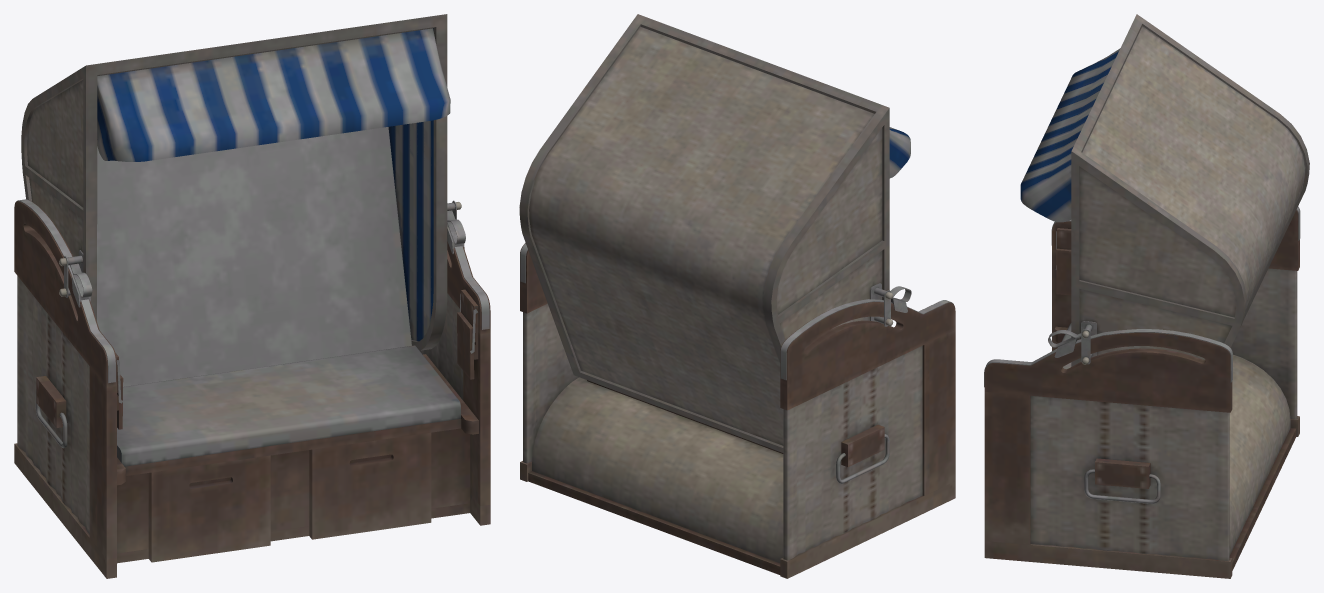
File: ItemSpot.fbx
The picture shows the model from 3 angles, left to right: view 1: azimuth 30°, elevation 25°; view 2: azimuth 150°, elevation 25°; view 3: azimuth 270°, elevation 25°; orthographic projection. The views are drawn at different scales.
Visible parts, largest first — view 1: ItemBox_BeachChair; view 2: ItemBox_BeachChair; view 3: ItemBox_BeachChair.
Part boxes in pixels (box(x1,y1,x2,y2)): ItemBox_BeachChair: box(14, 14, 490, 578); ItemBox_BeachChair: box(519, 14, 955, 578); ItemBox_BeachChair: box(984, 14, 1309, 578).
Size of the model in its own units: 1.96 by 2.25 by 1.62.
1 material, 1 textured.
